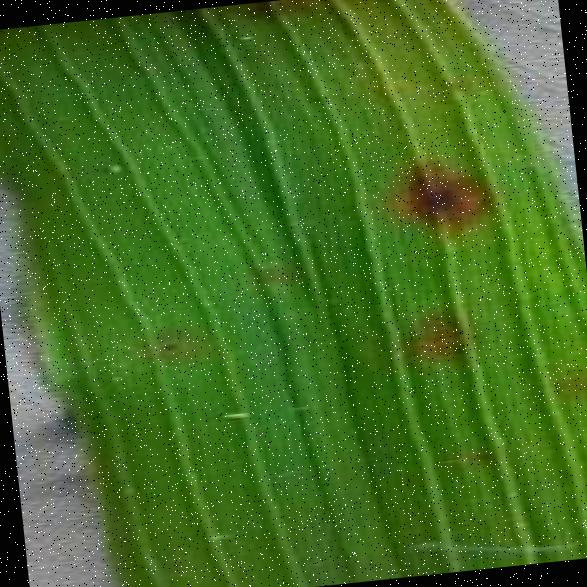Brown_Spot: (377, 140, 505, 242), (400, 303, 488, 378), (146, 326, 186, 360), (293, 82, 333, 112), (466, 444, 499, 468)
